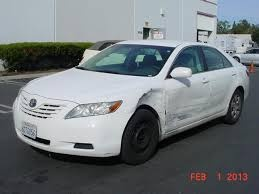Dent: (133, 87, 169, 112)
Scratch: (160, 106, 206, 133)
